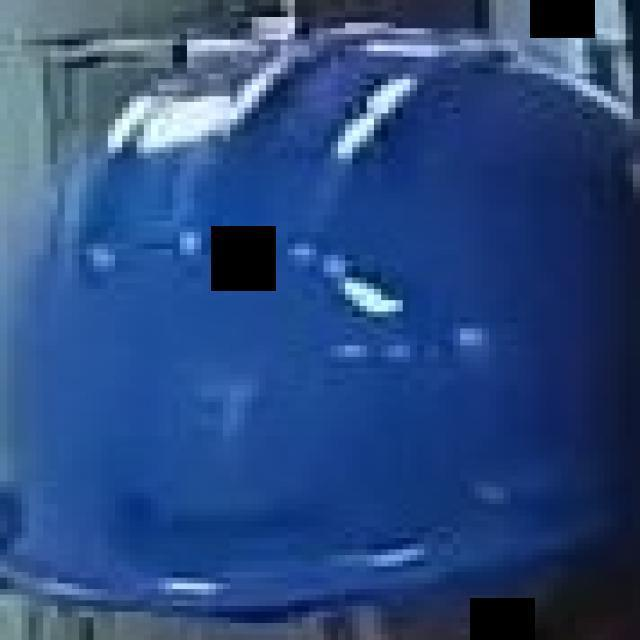blue helmet: (6, 8, 640, 607)
